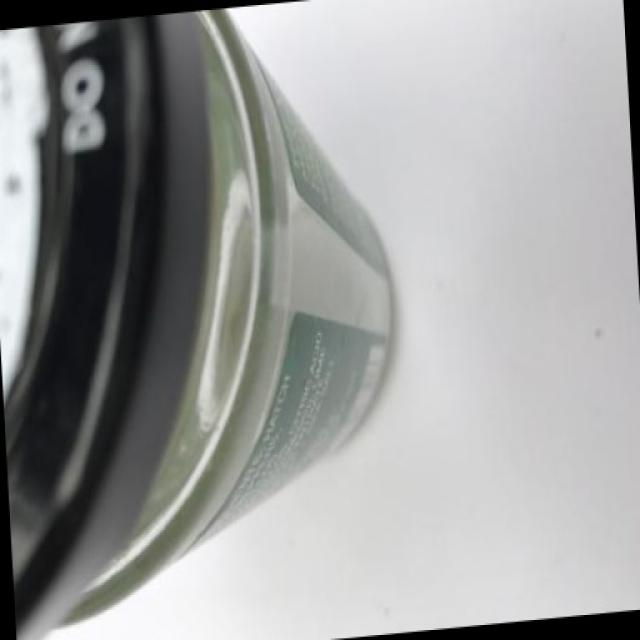vidrio: (20, 8, 464, 634)
